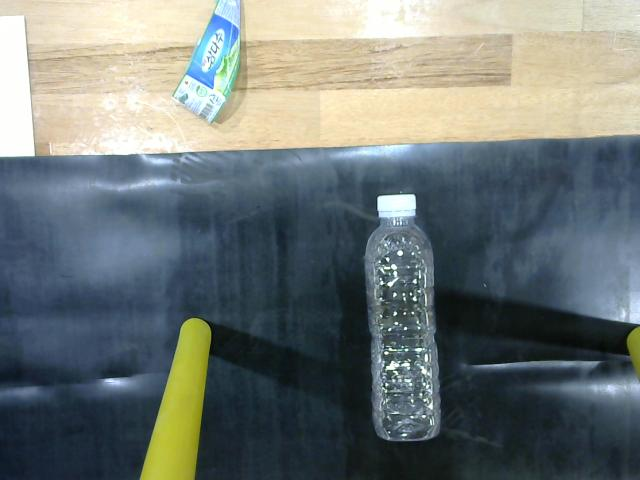bottle: (353, 187, 456, 444)
